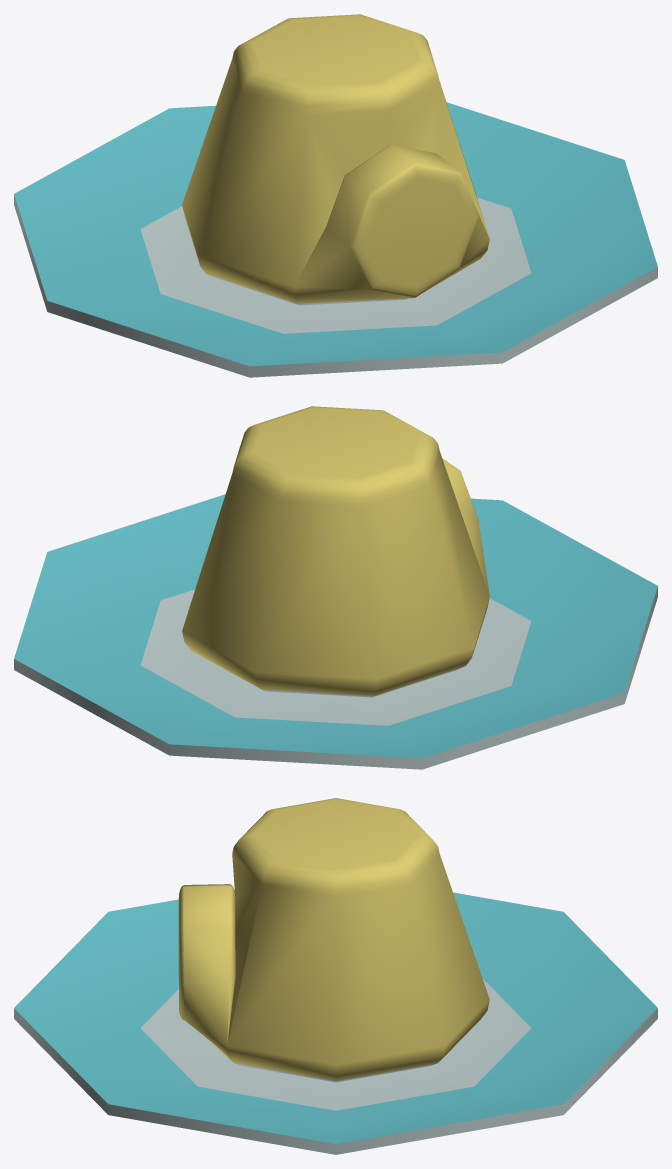
The model's file is pudding_type0.fbx.
3 renders of one model, top to bottom at view 1: azimuth 30°, elevation 25°; view 2: azimuth 150°, elevation 25°; view 3: azimuth 270°, elevation 25°, orthographic. The views are drawn at different scales.
Visible parts, largest first — view 1: pudding; view 2: pudding; view 3: pudding.
Boxes of the visible parts, <box> form: pudding: <box>14,14,657,377</box>; pudding: <box>14,406,657,769</box>; pudding: <box>14,798,657,1154</box>.
Size of the model in its own units: 181 by 73.14 by 181.
